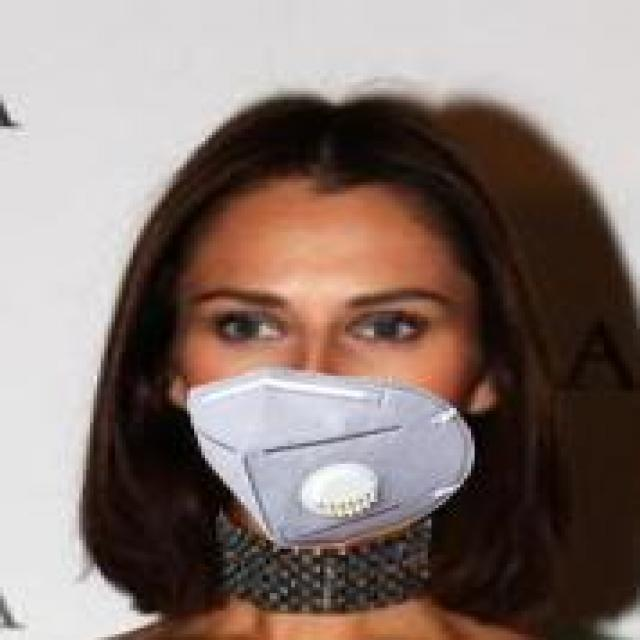mask: (144, 103, 550, 543)
